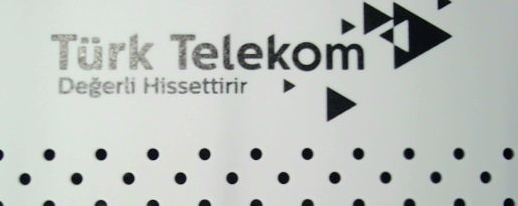AQ_TURKTelekom: (46, 4, 453, 120)
